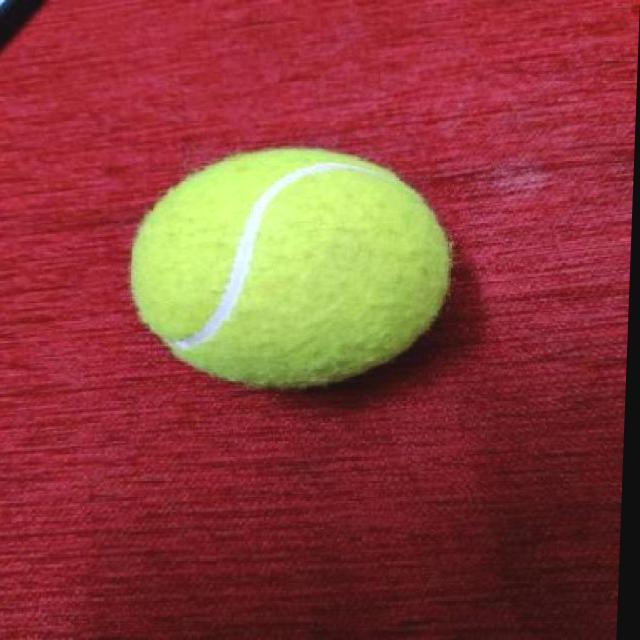-: (103, 135, 496, 404)
